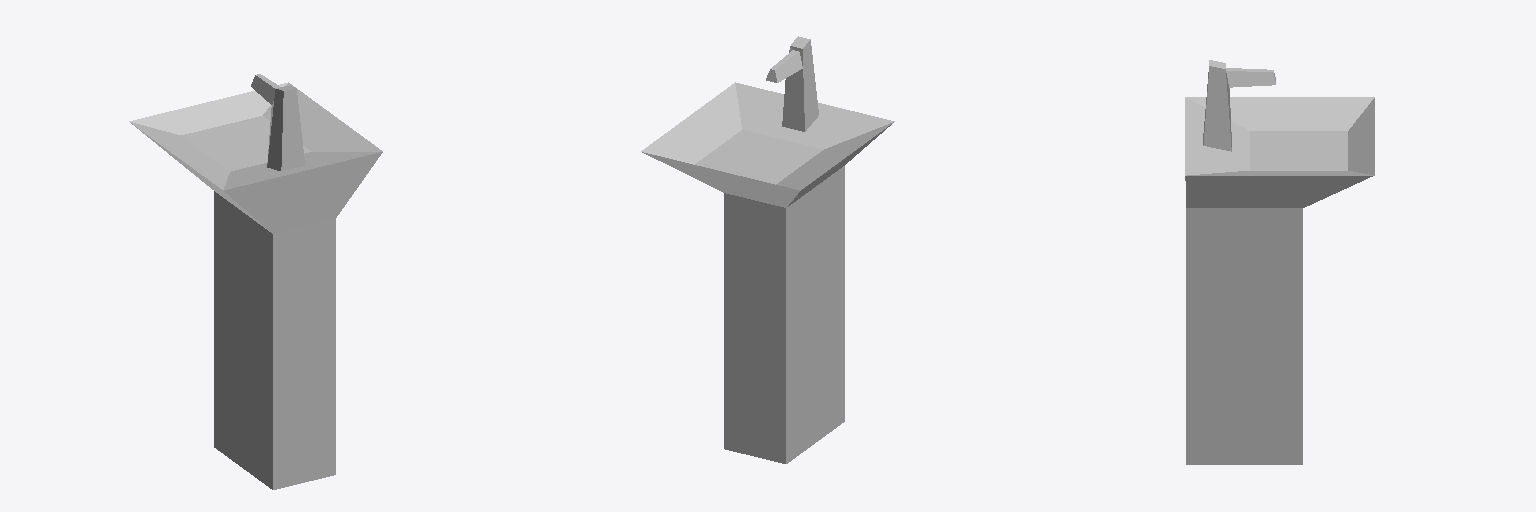
The model's file is Sink.obj.
3 views of the same model, side by side, from view 1: azimuth 30°, elevation 25°; view 2: azimuth 150°, elevation 25°; view 3: azimuth 270°, elevation 25° (orthographic).
Parts seen in each view (by area): view 1: Cube; view 2: Cube; view 3: Cube.
Boxes of the visible parts, box(x1,y1,x2,y2) form: Cube: box(129, 74, 382, 489); Cube: box(641, 36, 894, 463); Cube: box(1185, 60, 1374, 464).
Bounding box in the file's own units: 2.15 × 4.94 × 2.2.